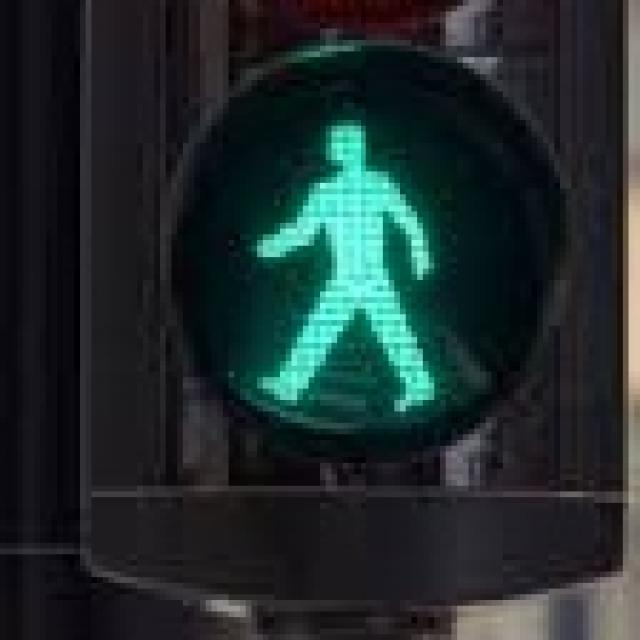green_light: (223, 92, 468, 417)
